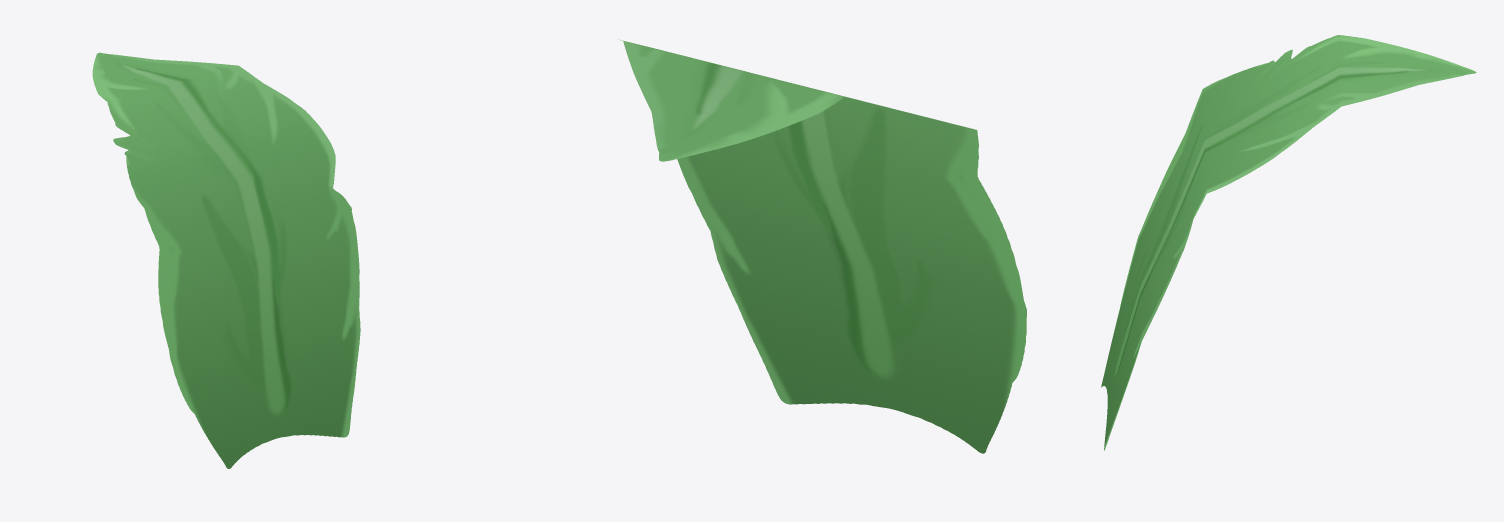
Rendered from HojaG_2.fbx.
3 renders of one model, left to right at view 1: azimuth 30°, elevation 25°; view 2: azimuth 150°, elevation 25°; view 3: azimuth 270°, elevation 25°, orthographic. The views are drawn at different scales.
Parts seen in each view (by area): view 1: HojaG_2; view 2: HojaG_2; view 3: HojaG_2.
Boxes of the visible parts, box(x1,y1,x2,y2) form: HojaG_2: box(92, 52, 360, 468); HojaG_2: box(619, 39, 1026, 453); HojaG_2: box(1101, 35, 1476, 450).
Size of the model in its own units: 109 by 134 by 129.
